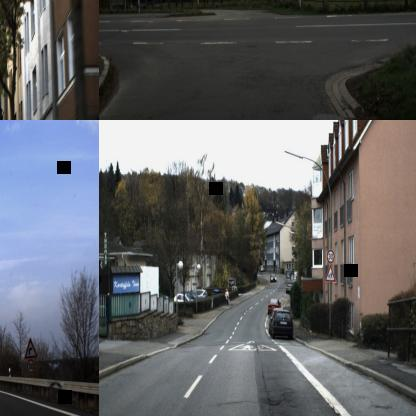SCHOOL CROSSING: (324, 263, 336, 283)
bend: (24, 337, 38, 359)
speed limit 100: (26, 358, 36, 374)
speed limit 30: (326, 249, 334, 263)
